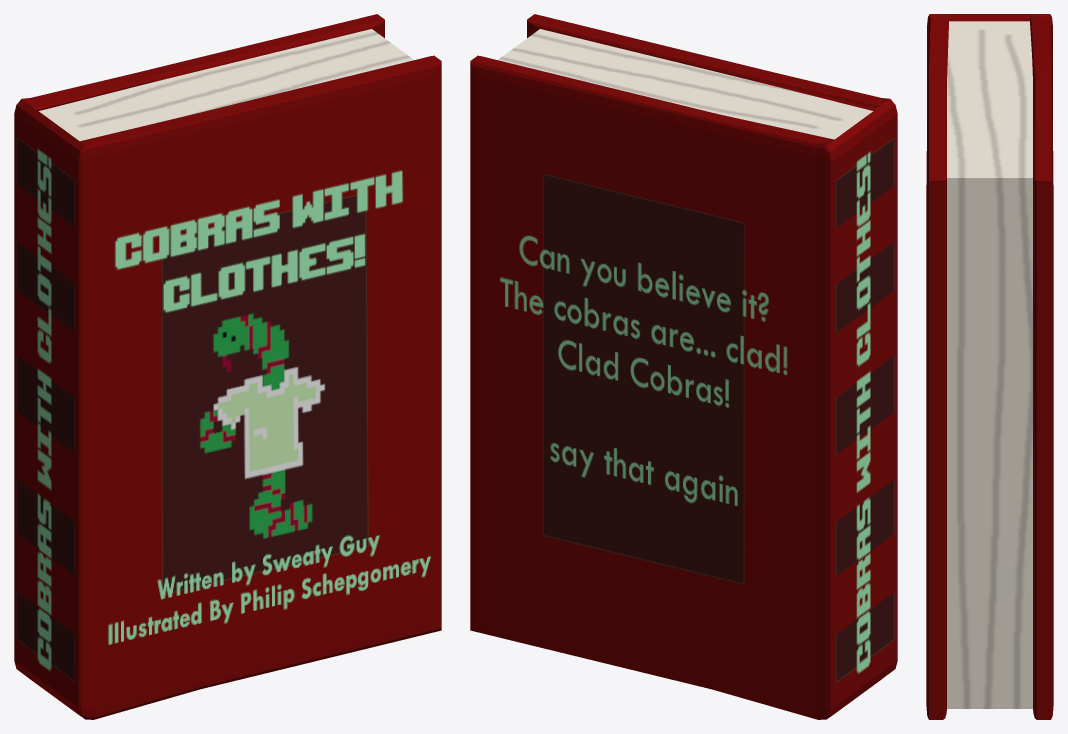
File: Book3.fbx
The picture shows the model from 3 angles, left to right: view 1: azimuth 30°, elevation 25°; view 2: azimuth 150°, elevation 25°; view 3: azimuth 270°, elevation 25°; orthographic projection. The views are drawn at different scales.
Parts seen in each view (by area): view 1: Cube; view 2: Cube; view 3: Cube.
Part boxes in pixels (bbox=[...]): Cube: bbox=[14, 14, 441, 719]; Cube: bbox=[470, 14, 897, 719]; Cube: bbox=[926, 14, 1053, 719].
Bounding box in the file's own units: 30.28 × 45.98 × 9.69.
Materials: 1 (1 with a texture image).
